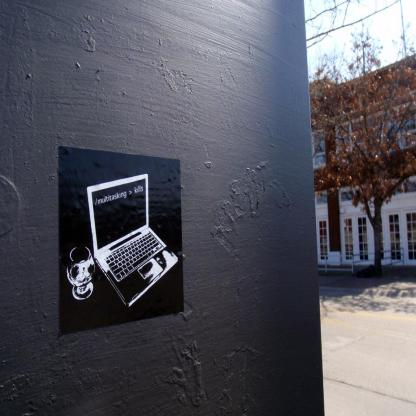board: (80, 189, 180, 313)
